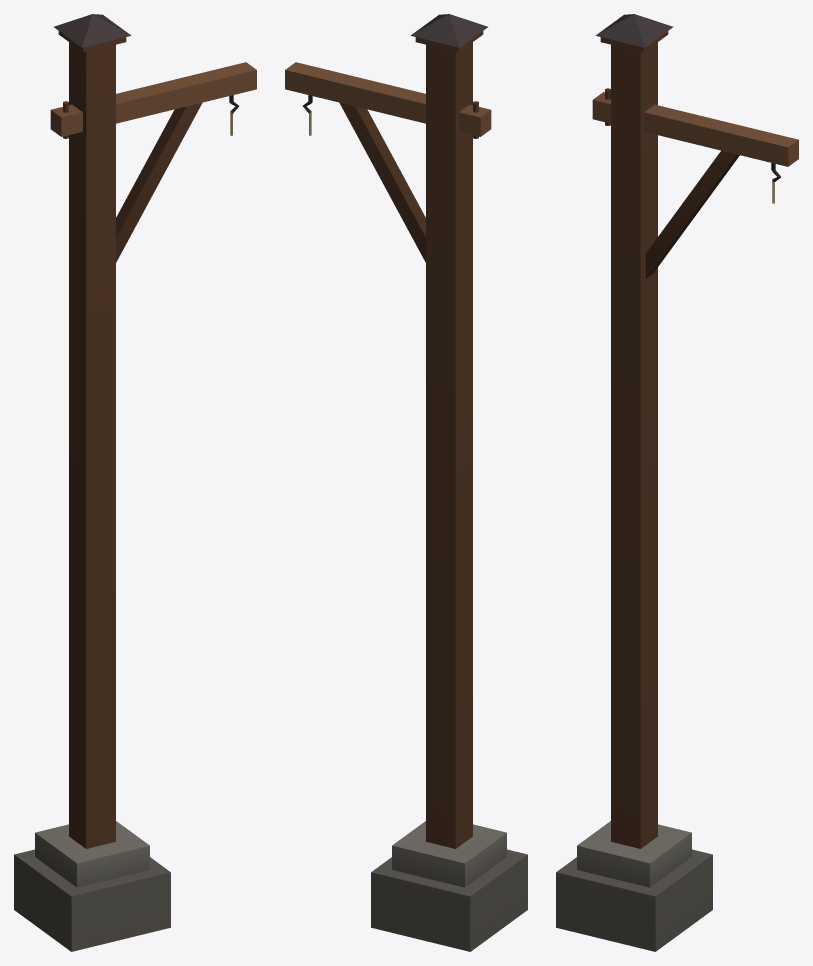
The model's file is lantern_pole.glb.
3 renders of one model, left to right at view 1: azimuth 30°, elevation 25°; view 2: azimuth 150°, elevation 25°; view 3: azimuth 330°, elevation 25°, orthographic.
Parts seen in each view (by area): view 1: pole; view 2: pole; view 3: pole.
Boxes of the visible parts, x1,y1,x2,y2 form: pole: [14, 14, 256, 951]; pole: [285, 14, 527, 951]; pole: [556, 14, 798, 951].
Size of what is drawn, in the model's own units: 0.63 by 2.61 by 0.3.
